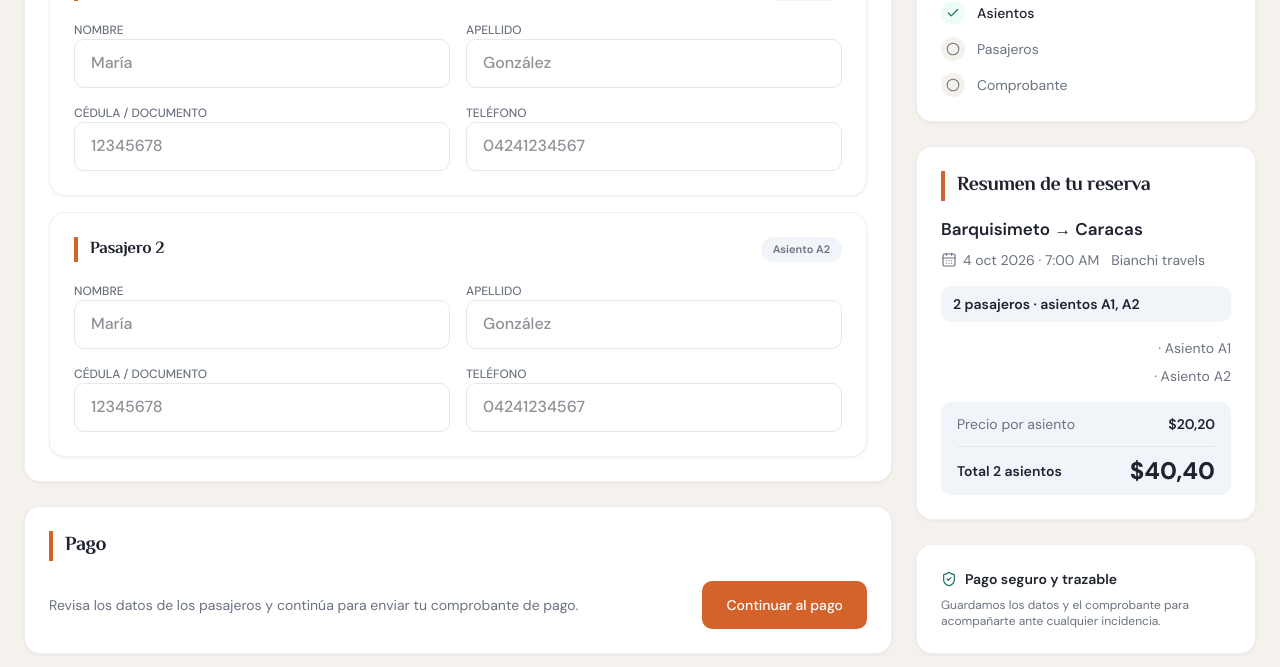
Scenario: Wizard de reserva (MKT-004) › valida los datos de los pasajeros antes de crear la reserva
(page scrolled)
Click the button "Continuar al pago".
click(785, 605)  # box [702, 581, 867, 629]
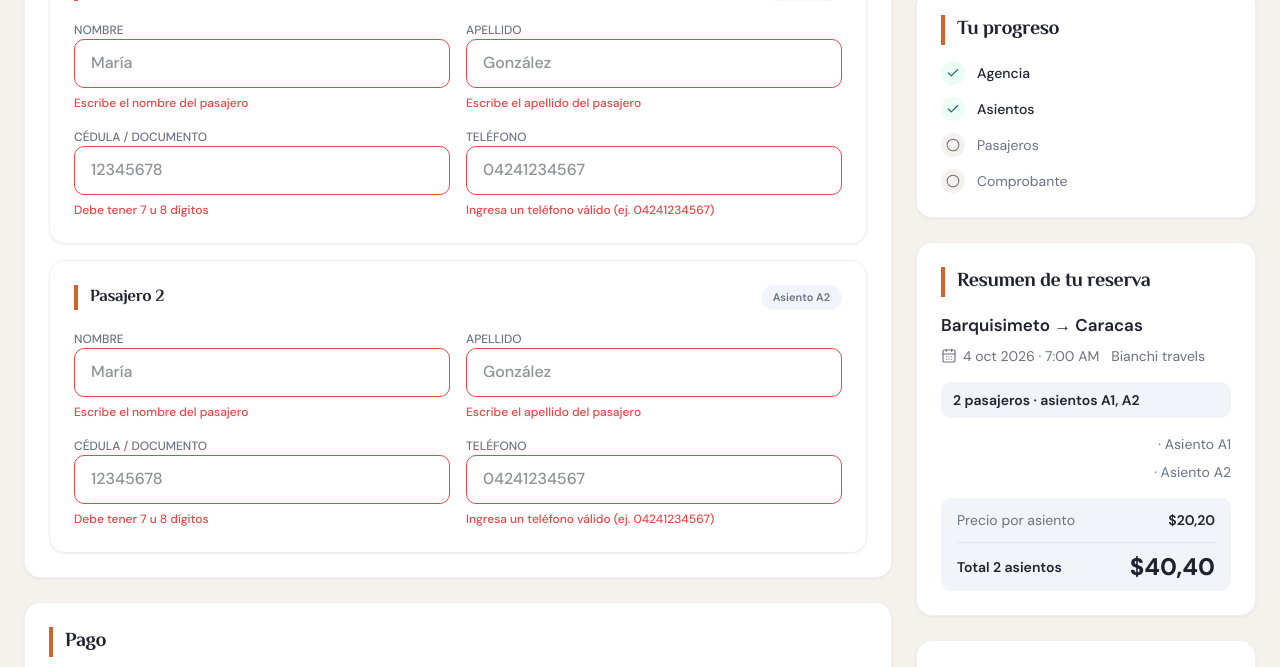
Expected: the text "Escribe el nombre del pasajero" is shown 2 times, [74, 95, 248, 111]; [74, 404, 248, 420]
Expected: the text "Escribe el apellido del pasajero" is shown 2 times, [466, 95, 641, 111]; [466, 404, 641, 420]
Expected: the text "Debe tener 7 u 8 dígitos" is shown 2 times, [74, 202, 209, 218]; [74, 511, 209, 527]
